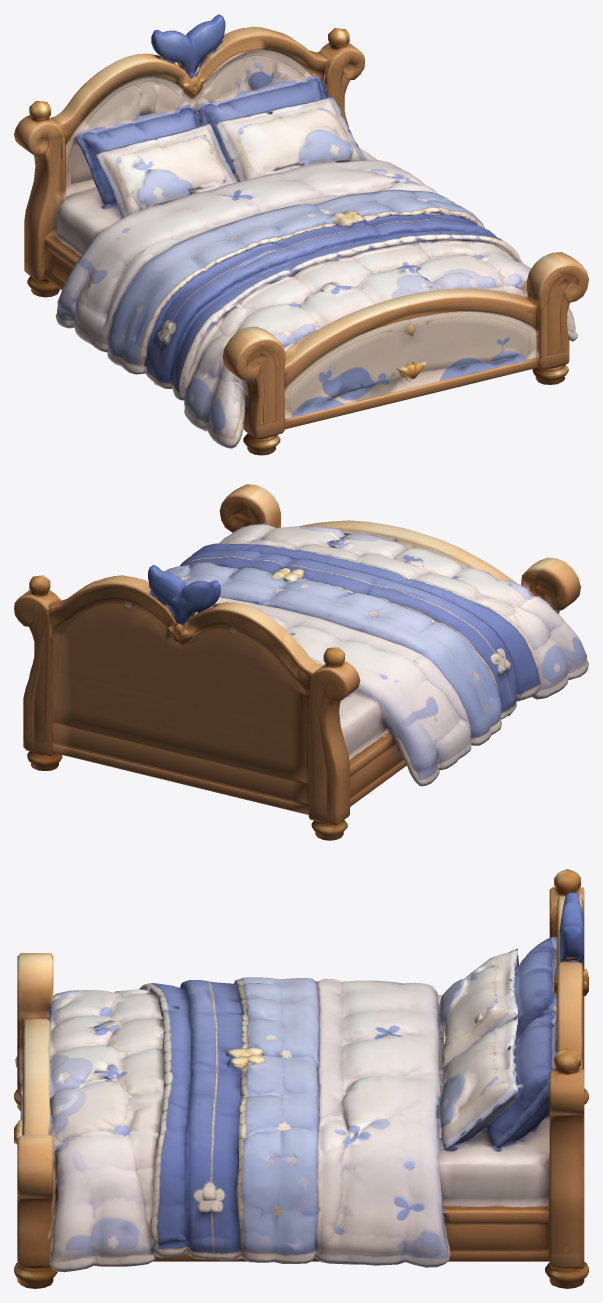
File: whale-bed-v1.glb
3 renders of one model, top to bottom at view 1: azimuth 30°, elevation 25°; view 2: azimuth 150°, elevation 25°; view 3: azimuth 270°, elevation 25°, orthographic. The views are drawn at different scales.
Visible parts, largest first — view 1: whale-bed-v1, Sleep-quilt; view 2: whale-bed-v1, Sleep-quilt; view 3: Sleep-quilt, whale-bed-v1.
Part boxes in pixels (x1,y1,x2,y2): whale-bed-v1: (14,14,588,455); Sleep-quilt: (55,153,577,440); whale-bed-v1: (14,484,588,840); Sleep-quilt: (165,524,586,783); Sleep-quilt: (15,977,443,1271); whale-bed-v1: (14,869,588,1288).
Size of the model in its own units: 1.65 by 0.9816 by 1.8.
1 material, 1 textured.
